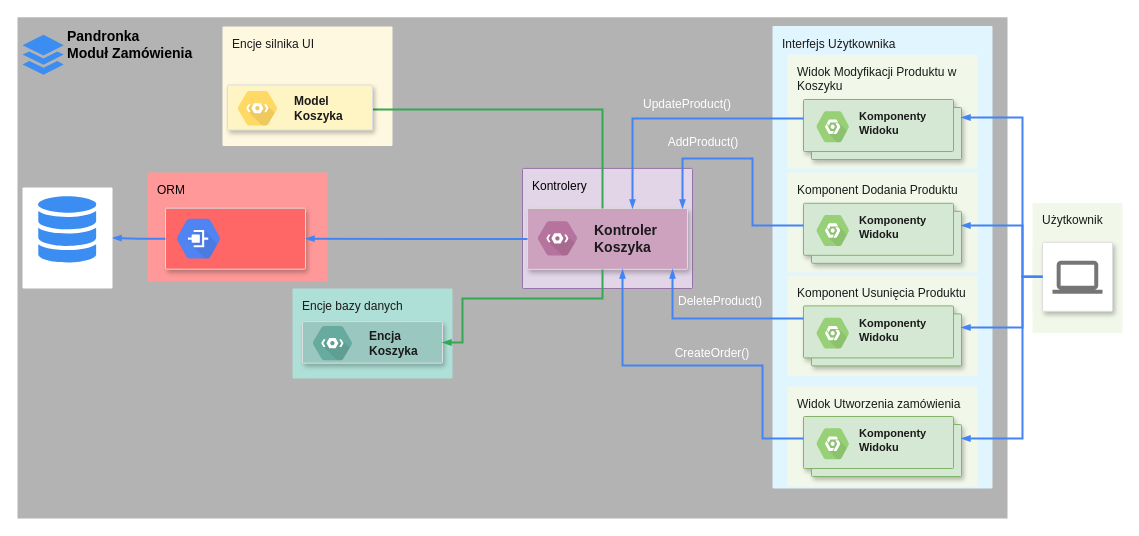
This 1139x536 diagram has some shape labels left out. Here are the shapes that lost their labels. From the top down, the centre of each, then its label:
At (67,229): "Baza danych".
At (198,238): "Adapter dostępowy".
